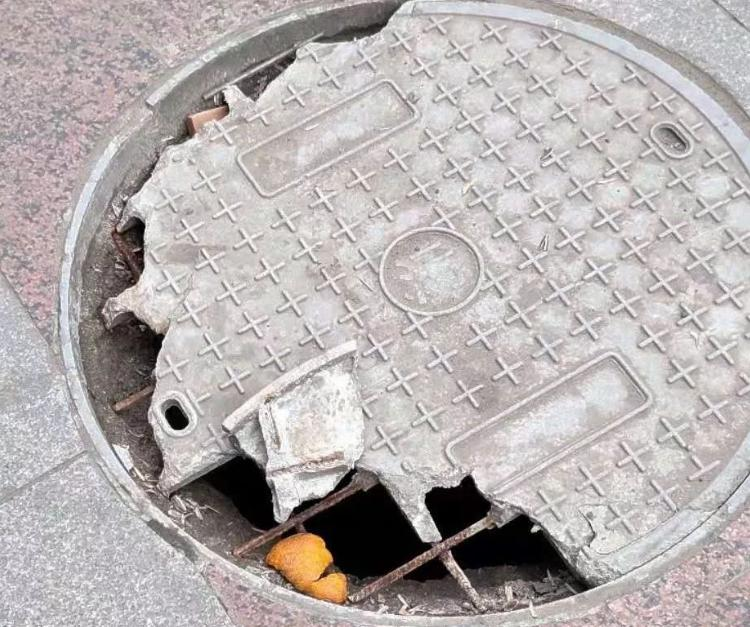wellcover: (38, 7, 750, 613)
